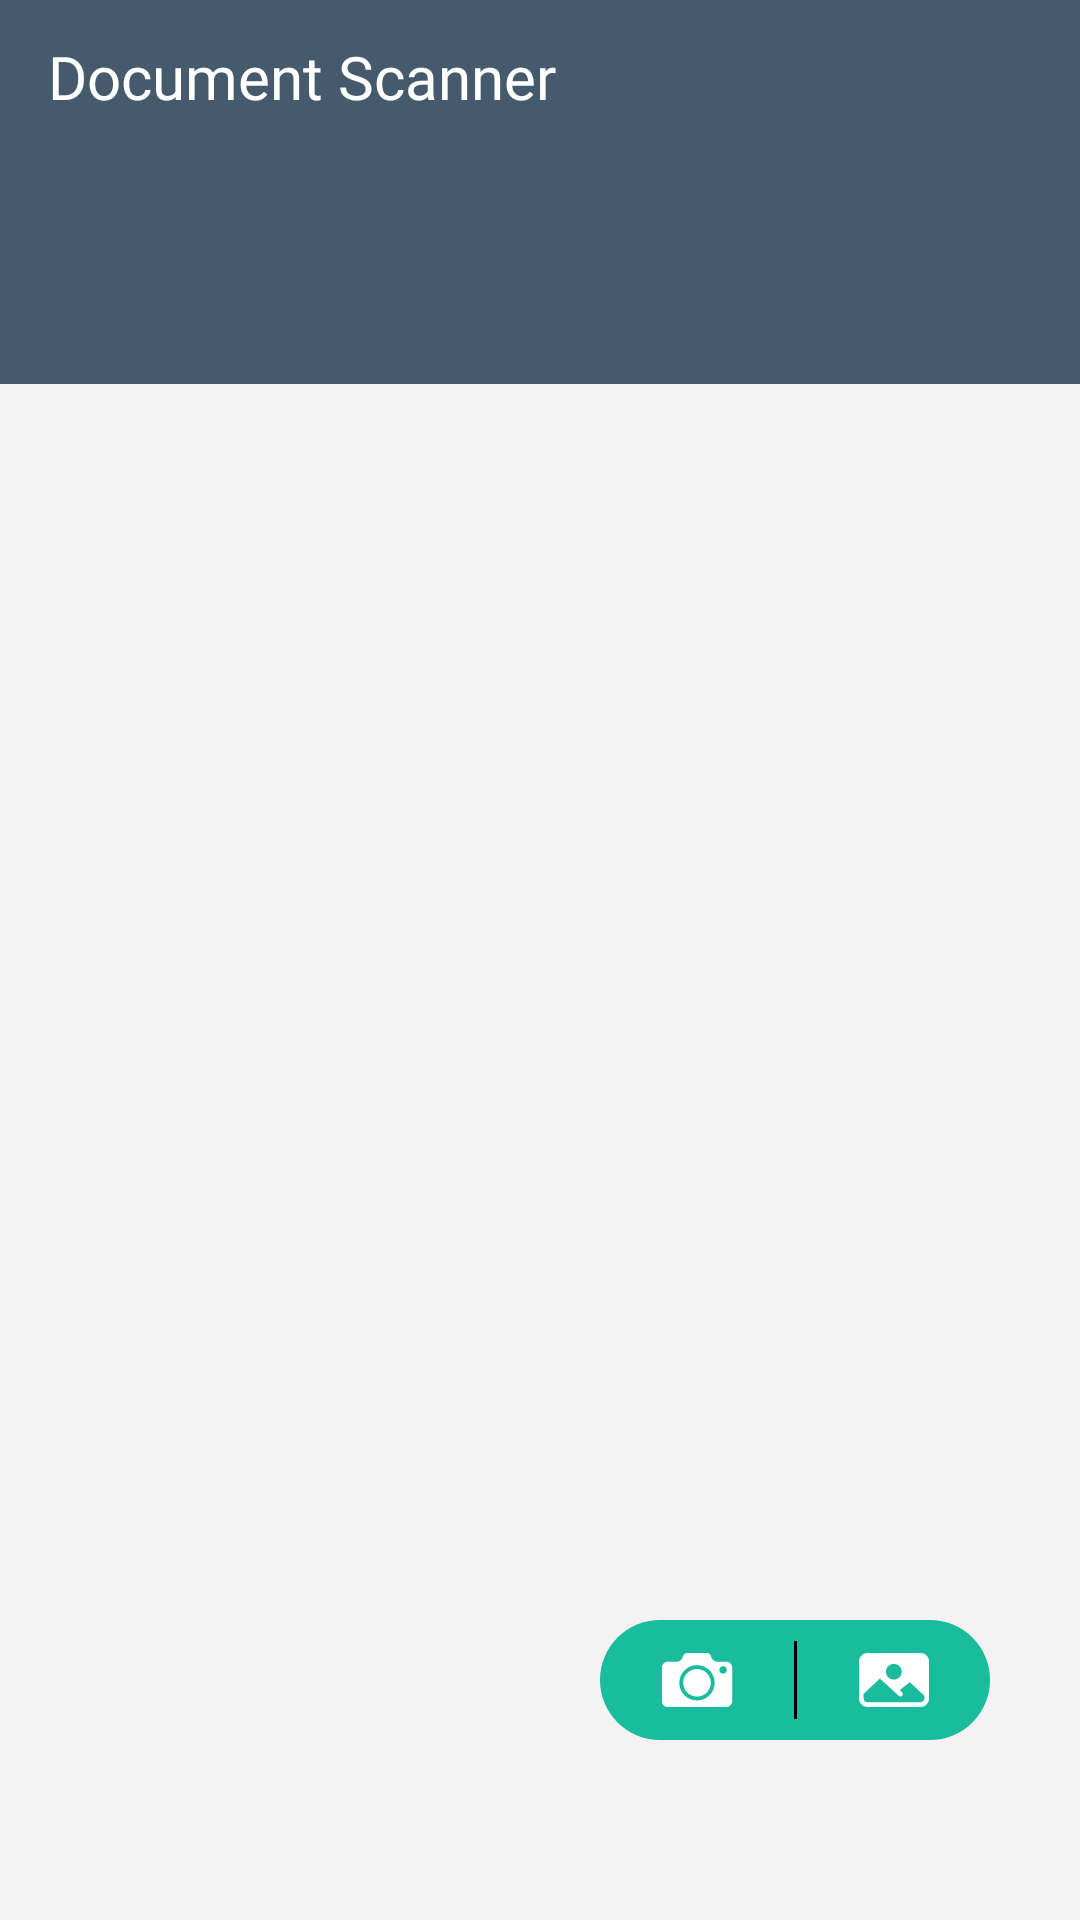

Icons on this 1080 × 1920 Android screen, each with the point to tap as (x,y):
camera home page: (697,1680)
gallery home page: (893,1680)
